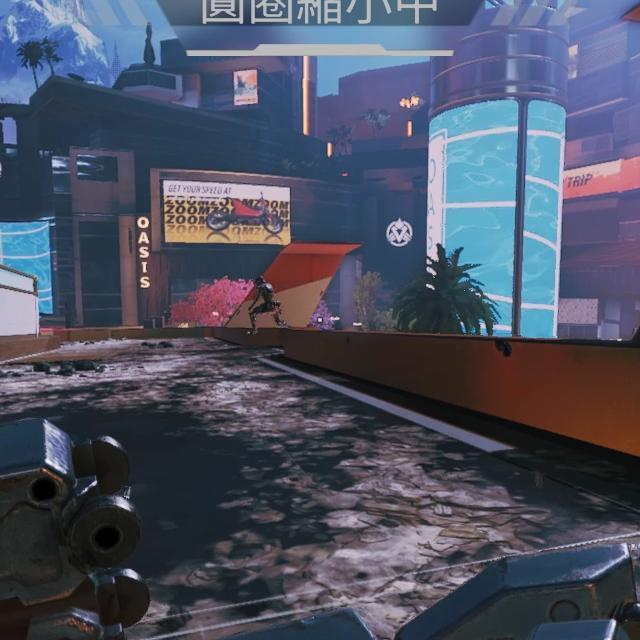avatar: (246, 274, 284, 338)
